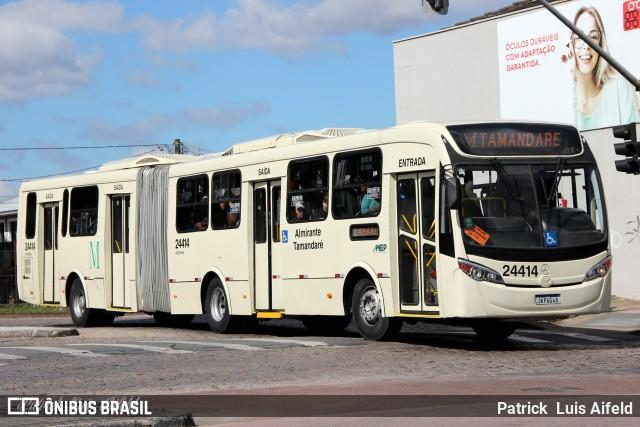TAMANDARE: (477, 131, 564, 151)
